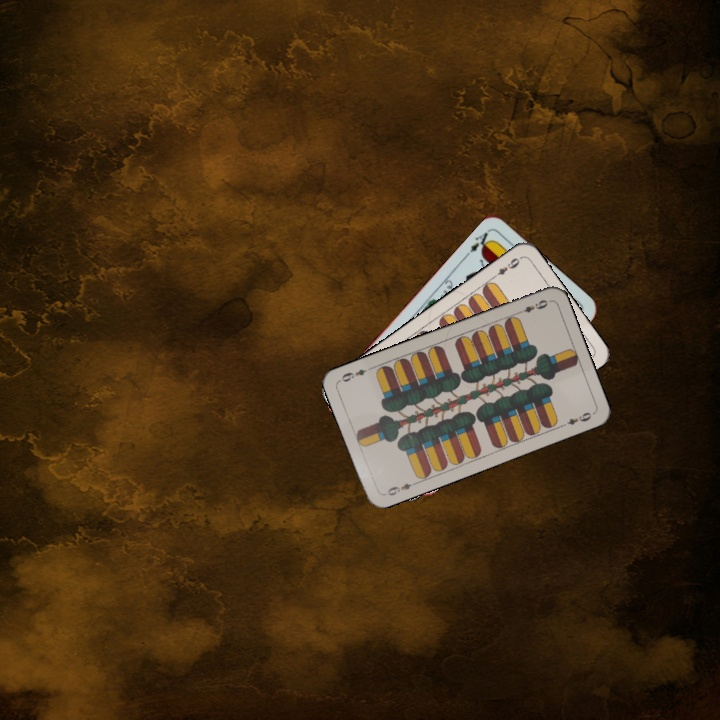E9: (488, 253, 524, 281), (380, 478, 419, 498), (513, 296, 550, 316)
EA: (462, 225, 495, 259)
